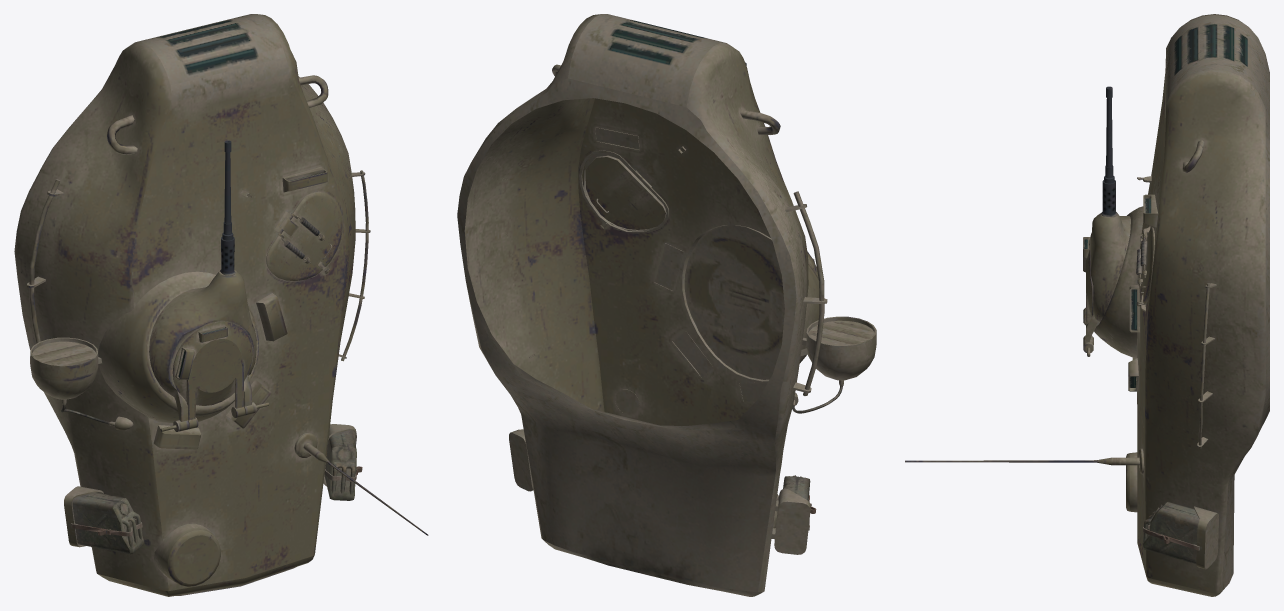
The model's file is Turret_01.glb.
3 renders of one model, left to right at view 1: azimuth 30°, elevation 25°; view 2: azimuth 150°, elevation 25°; view 3: azimuth 270°, elevation 25°, orthographic. The views are drawn at different scales.
Parts seen in each view (by area): view 1: set_0_group_0; view 2: set_0_group_0; view 3: set_0_group_0.
Boxes of the visible parts, x1=… form: set_0_group_0: x1=14, y1=14, x2=428, y2=596; set_0_group_0: x1=457, y1=14, x2=876, y2=596; set_0_group_0: x1=905, y1=14, x2=1269, y2=596.
Size of the model in its own units: 2.81 by 3.97 by 2.56.
1 material, 1 textured.
